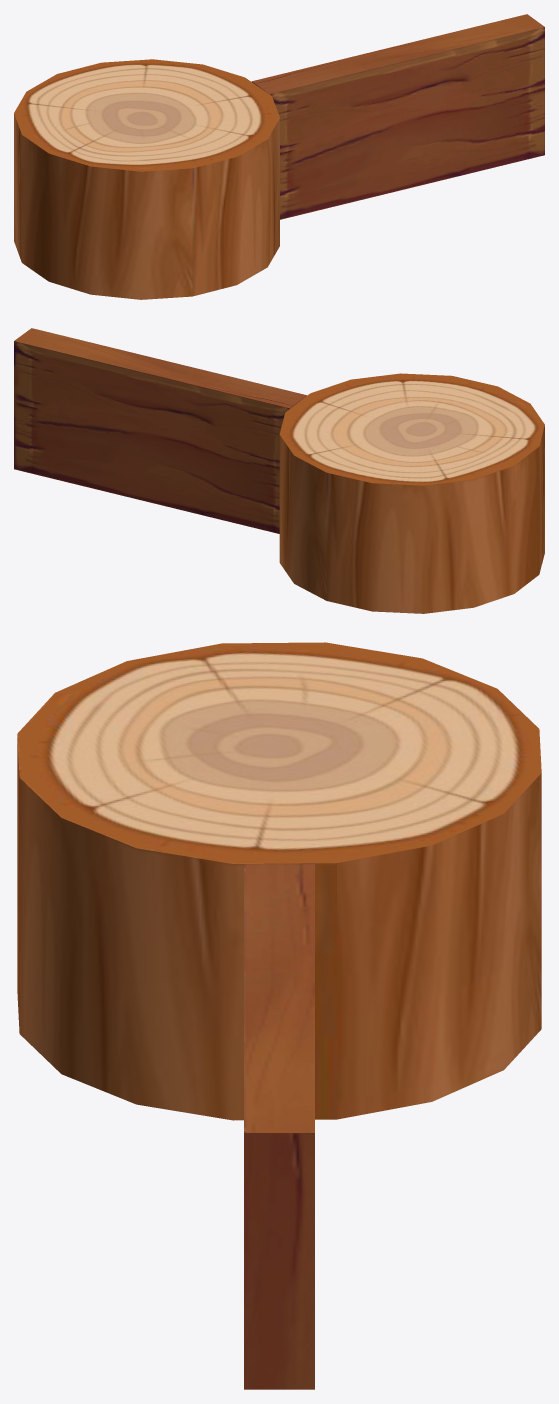
File: one_blade_wood_01.fbx
The picture shows the model from 3 angles, top to bottom: view 1: azimuth 30°, elevation 25°; view 2: azimuth 150°, elevation 25°; view 3: azimuth 270°, elevation 25°; orthographic projection. The views are drawn at different scales.
Visible parts, largest first — view 1: one_blade_wood_01; view 2: one_blade_wood_01; view 3: one_blade_wood_01.
Part boxes in pixels (x1,y1,x2,y2): one_blade_wood_01: (14,14,544,299); one_blade_wood_01: (14,328,544,613); one_blade_wood_01: (17,642,541,1389).
Size of the model in its own units: 164 by 40 by 74.15.
